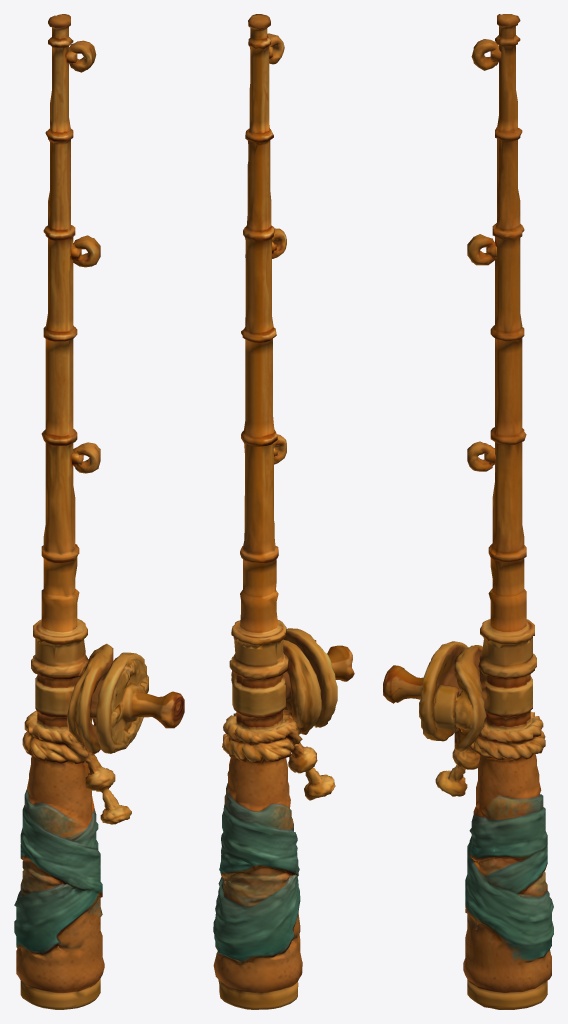
File: fishing rod.glb
3 views of the same model, side by side, from view 1: azimuth 90°, elevation 25°; view 2: azimuth 150°, elevation 25°; view 3: azimuth 270°, elevation 25° (orthographic).
Visible parts, largest first — view 1: tripo_node_cf3cc875-27a3-4152-987e-a4e50452db78; view 2: tripo_node_cf3cc875-27a3-4152-987e-a4e50452db78; view 3: tripo_node_cf3cc875-27a3-4152-987e-a4e50452db78.
Part boxes in pixels (x1=…): tripo_node_cf3cc875-27a3-4152-987e-a4e50452db78: x1=14, y1=14, x2=184, y2=1009; tripo_node_cf3cc875-27a3-4152-987e-a4e50452db78: x1=213, y1=14, x2=354, y2=1009; tripo_node_cf3cc875-27a3-4152-987e-a4e50452db78: x1=383, y1=14, x2=553, y2=1009.
Size of the model in its own units: 0.105 by 0.9756 by 0.1547.
Materials: 1 (1 with a texture image).
